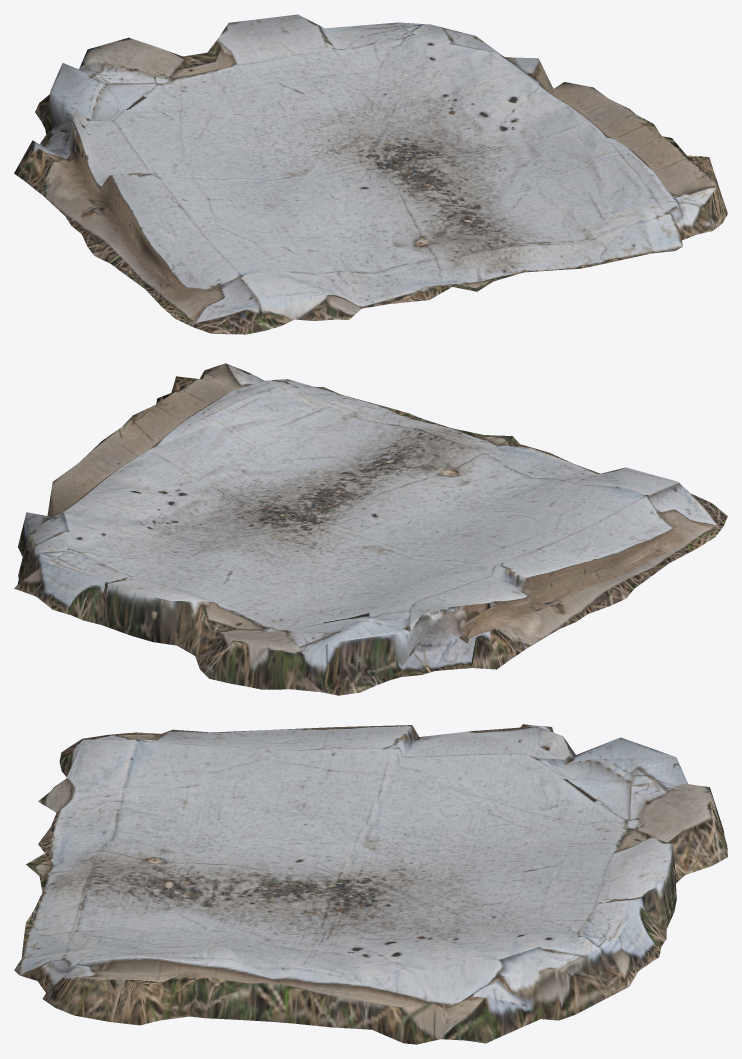
Rendered from sm_PizzaBox_01_01.fbx.
3 views of the same model, one above another, from view 1: azimuth 30°, elevation 25°; view 2: azimuth 150°, elevation 25°; view 3: azimuth 270°, elevation 25° (orthographic). The views are drawn at different scales.
Visible parts, largest first — view 1: sm_PizzaBox_01_01_LOD0; view 2: sm_PizzaBox_01_01_LOD0; view 3: sm_PizzaBox_01_01_LOD0.
Part boxes in pixels (x1,y1,x2,y2): sm_PizzaBox_01_01_LOD0: [14, 14, 727, 334]; sm_PizzaBox_01_01_LOD0: [14, 363, 727, 695]; sm_PizzaBox_01_01_LOD0: [14, 724, 727, 1044].
Bounding box in the file's own units: 65.93 × 68.49 × 7.89.
